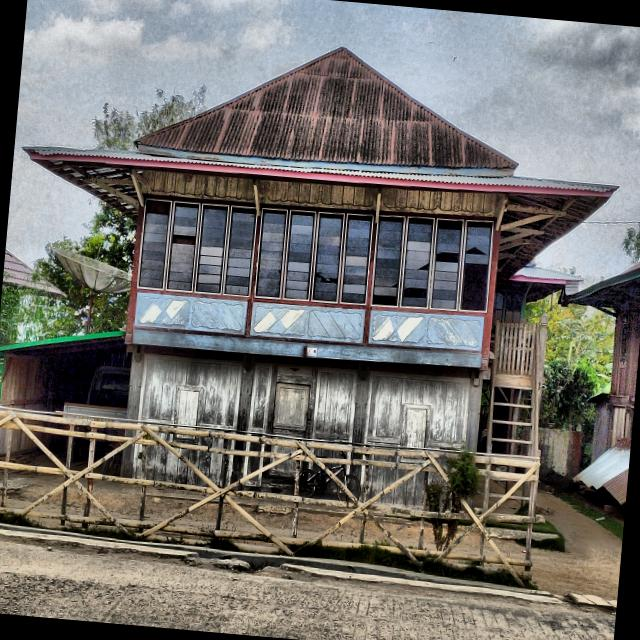door: (267, 383, 309, 483)
ornamen: (134, 292, 247, 334), (250, 302, 365, 343), (368, 310, 484, 350)
roof: (21, 44, 619, 291), (573, 436, 631, 504), (560, 260, 640, 306), (2, 247, 69, 296)
stair: (486, 320, 540, 457)
wall: (134, 354, 473, 512), (368, 188, 497, 352), (249, 179, 377, 344), (133, 173, 256, 335), (608, 279, 640, 448)
window: (461, 221, 493, 312), (401, 218, 433, 307), (195, 206, 227, 293), (167, 203, 199, 290), (431, 220, 462, 309), (372, 217, 403, 306), (139, 200, 170, 288), (283, 212, 314, 299), (255, 210, 286, 297), (224, 208, 255, 295), (312, 215, 343, 301), (341, 216, 371, 303), (403, 407, 427, 458), (176, 390, 198, 439)
